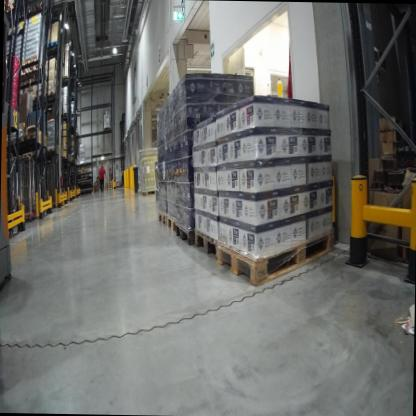forklift: (0, 6, 22, 302)
pallet: (216, 222, 336, 289), (193, 226, 221, 267), (173, 214, 197, 248), (23, 50, 46, 83), (16, 60, 32, 88), (42, 37, 60, 61), (42, 85, 57, 112), (166, 214, 179, 236), (142, 185, 159, 199), (156, 208, 168, 227), (22, 130, 38, 143), (13, 134, 24, 146), (44, 145, 56, 155), (20, 149, 32, 158), (59, 110, 69, 120), (12, 150, 20, 161), (60, 73, 69, 82), (105, 187, 112, 191)
